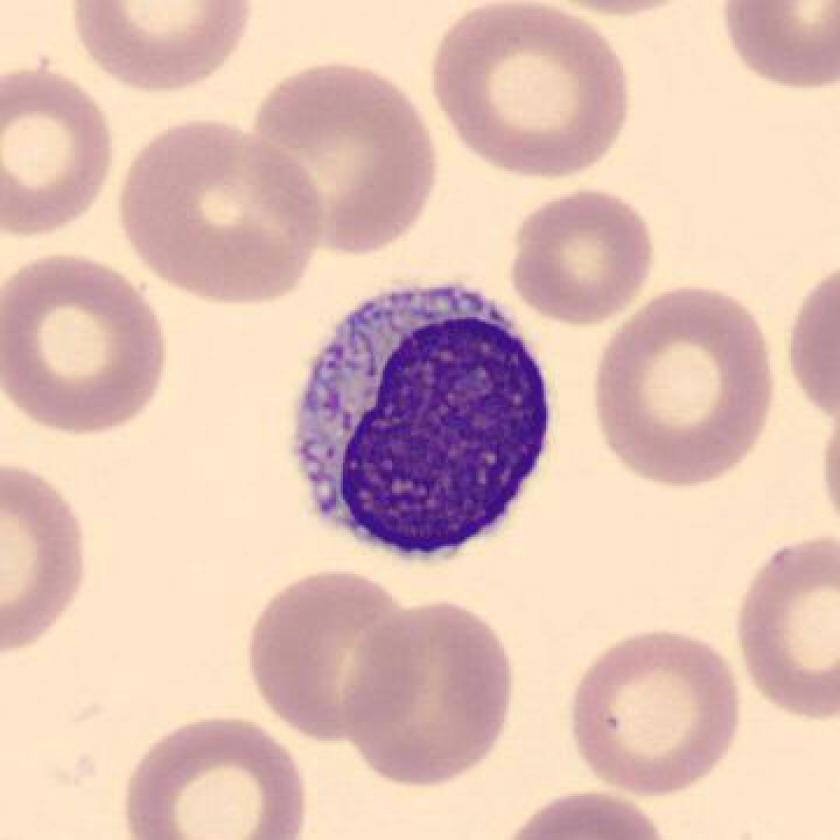lymphocyte: (274, 262, 566, 575)
